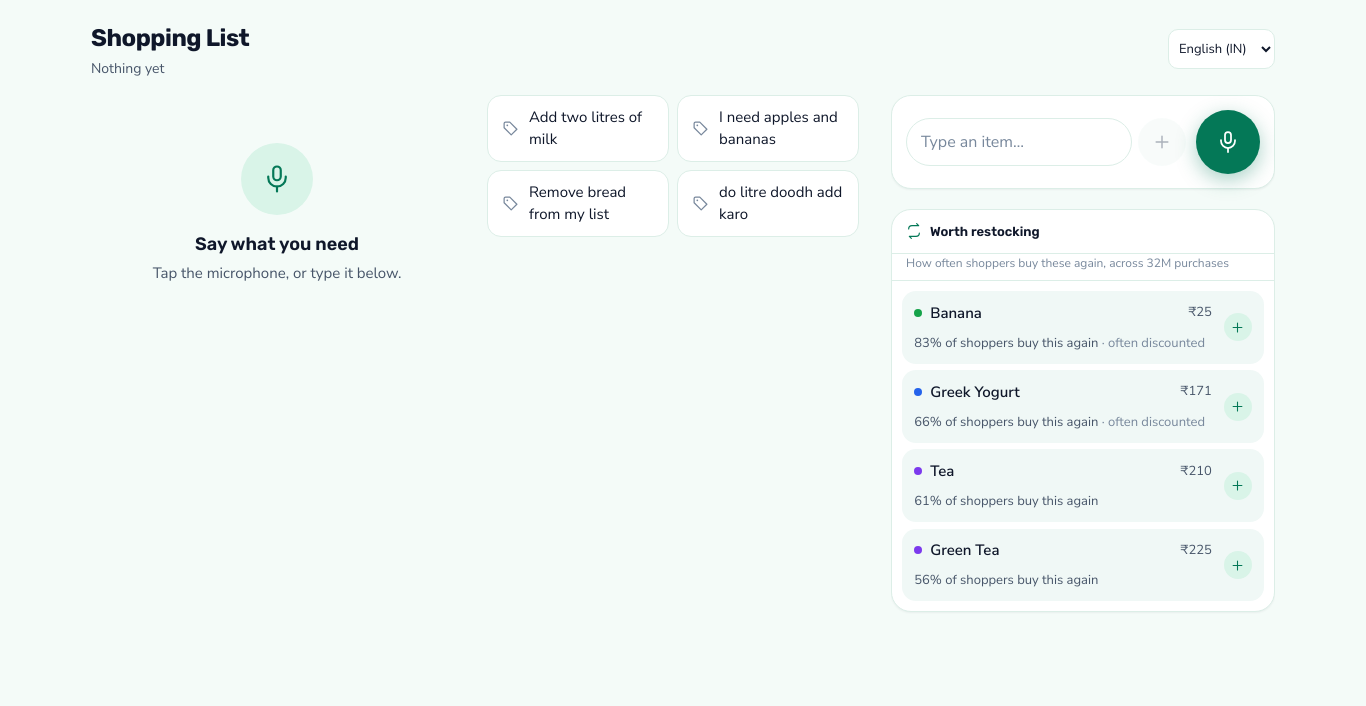
Scenario: the agent route › discards the plan when rejected
The width and height of the screenshot is (1366, 706).
Click the button named "Start listening": {"x": 1228, "y": 142} [1196,110,1260,174]
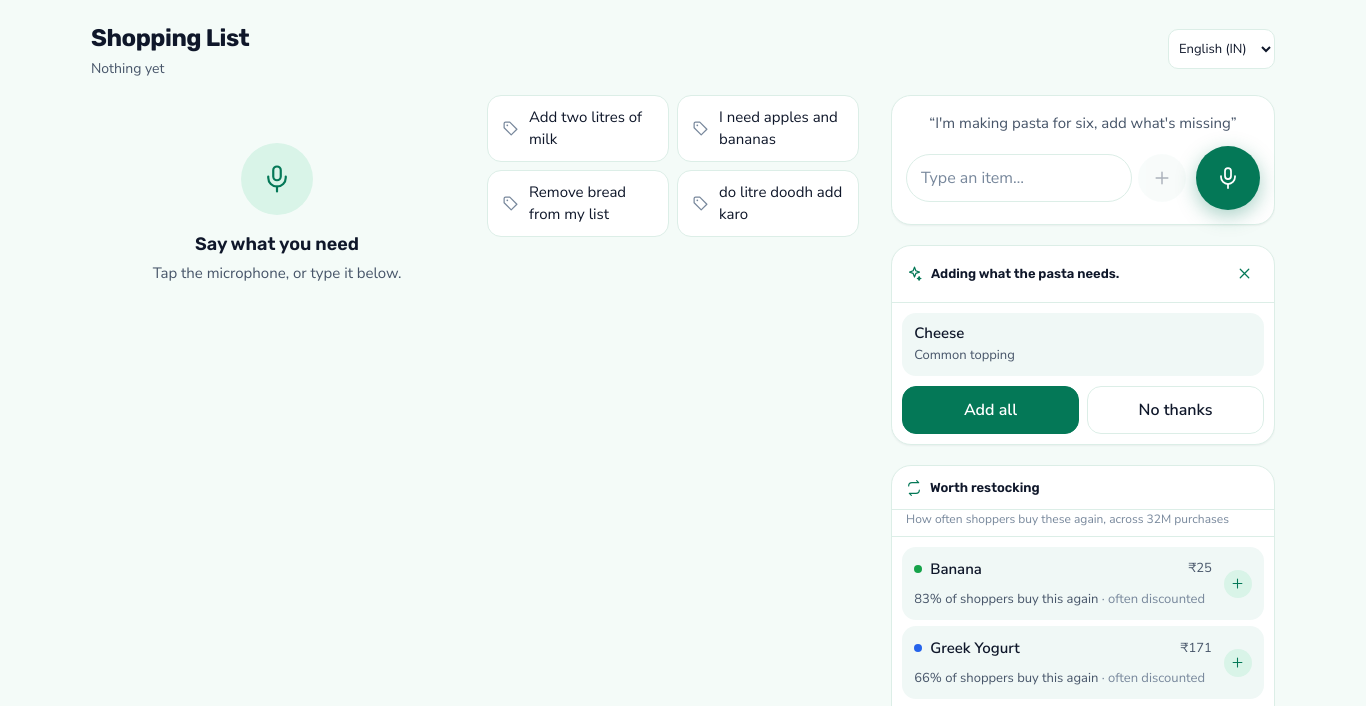
Click the button "No thanks": {"x": 1176, "y": 410} [1087,386,1264,434]
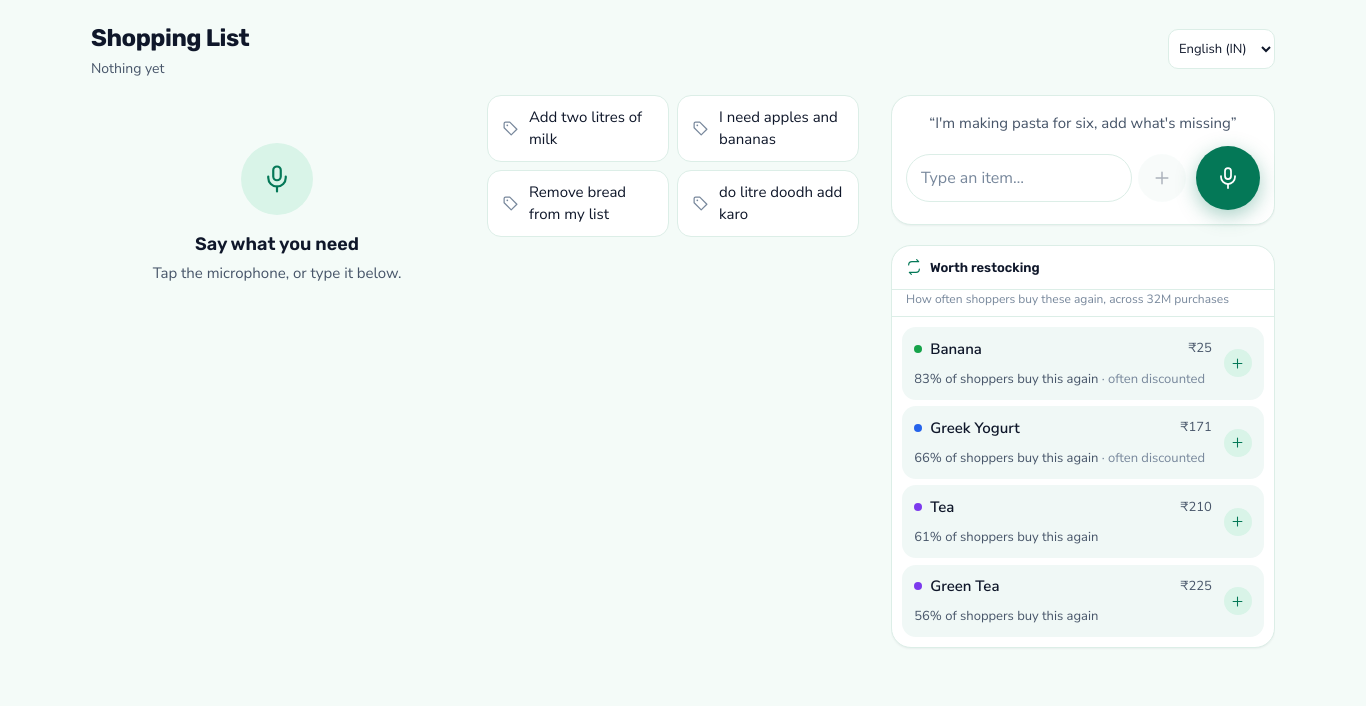
Expected: the heading "Adding what the pasta needs." is gone
